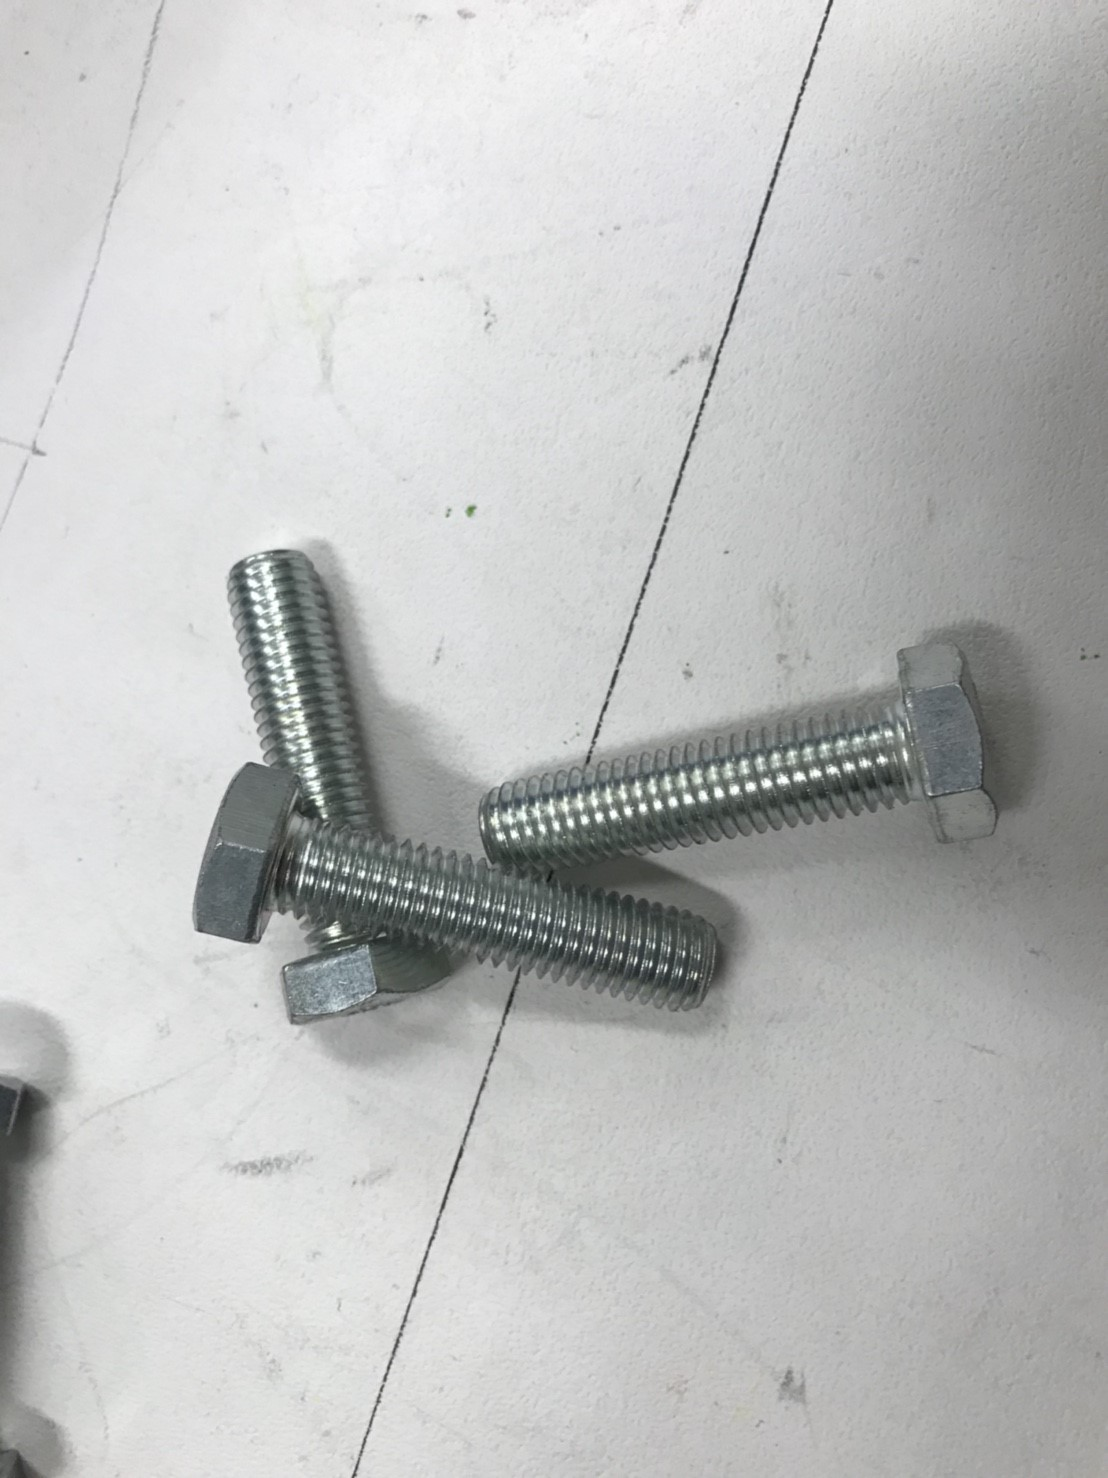screw: (175, 761, 734, 1008), (473, 625, 1028, 872), (221, 538, 432, 1033)
